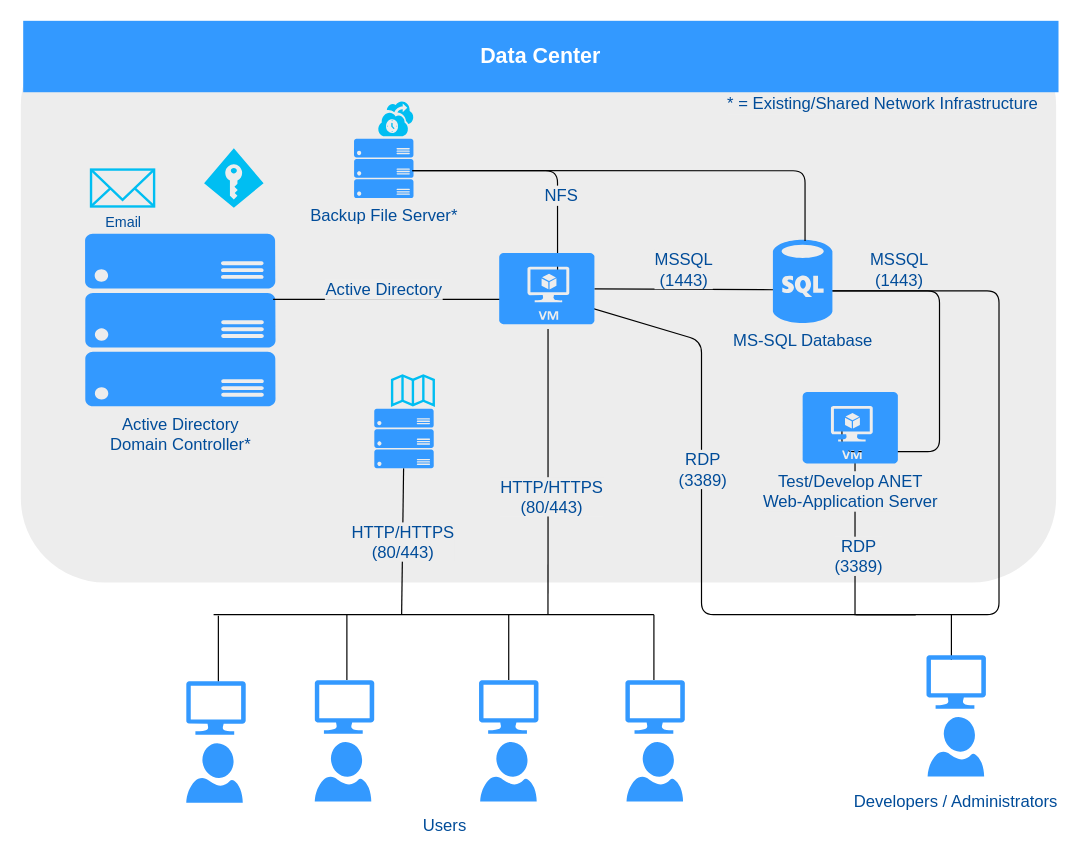
This 1089x857 diagram has some shape labels left out. Each missing label, with the box of its shape:
Authentication: (203, 148, 263, 207)
Production ANET Web-Application Server: (499, 252, 594, 324)
Tile Imagery Server*: (374, 408, 433, 468)
